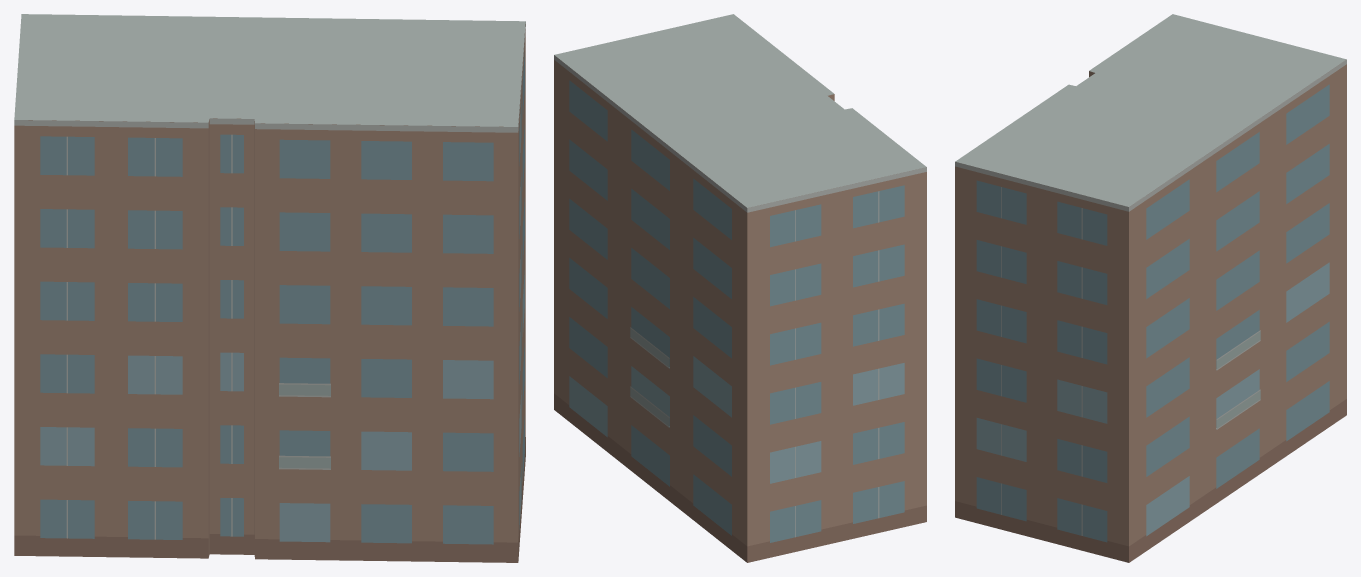
Rendered from survey-upis-32747141.glb.
The picture shows the model from 3 angles, left to right: view 1: azimuth 30°, elevation 25°; view 2: azimuth 150°, elevation 25°; view 3: azimuth 270°, elevation 25°; orthographic projection. The views are drawn at different scales.
Parts seen in each view (by area): view 1: survey-upis-32747141.tmp; view 2: survey-upis-32747141.tmp; view 3: survey-upis-32747141.tmp.
Part boxes in pixels (x1,y1,x2,y2): survey-upis-32747141.tmp: (14,14,525,562); survey-upis-32747141.tmp: (554,14,926,562); survey-upis-32747141.tmp: (955,14,1346,562).
Bounding box in the file's own units: 21.3 × 18.3 × 18.27.
